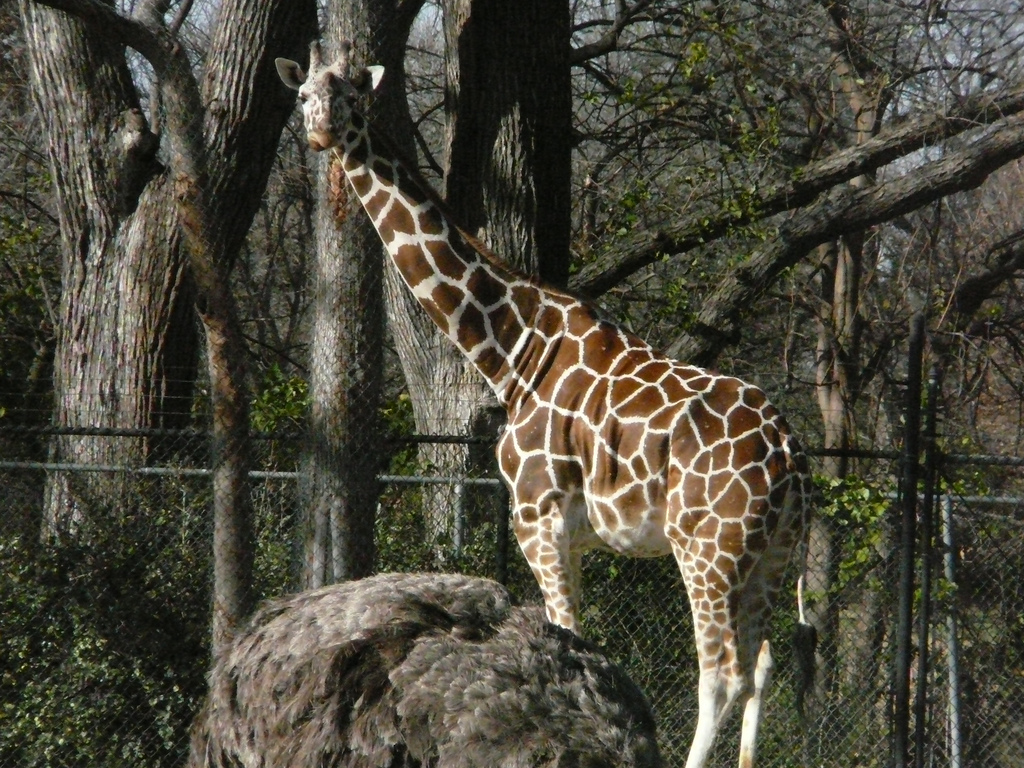giraffe: (266, 50, 836, 768)
